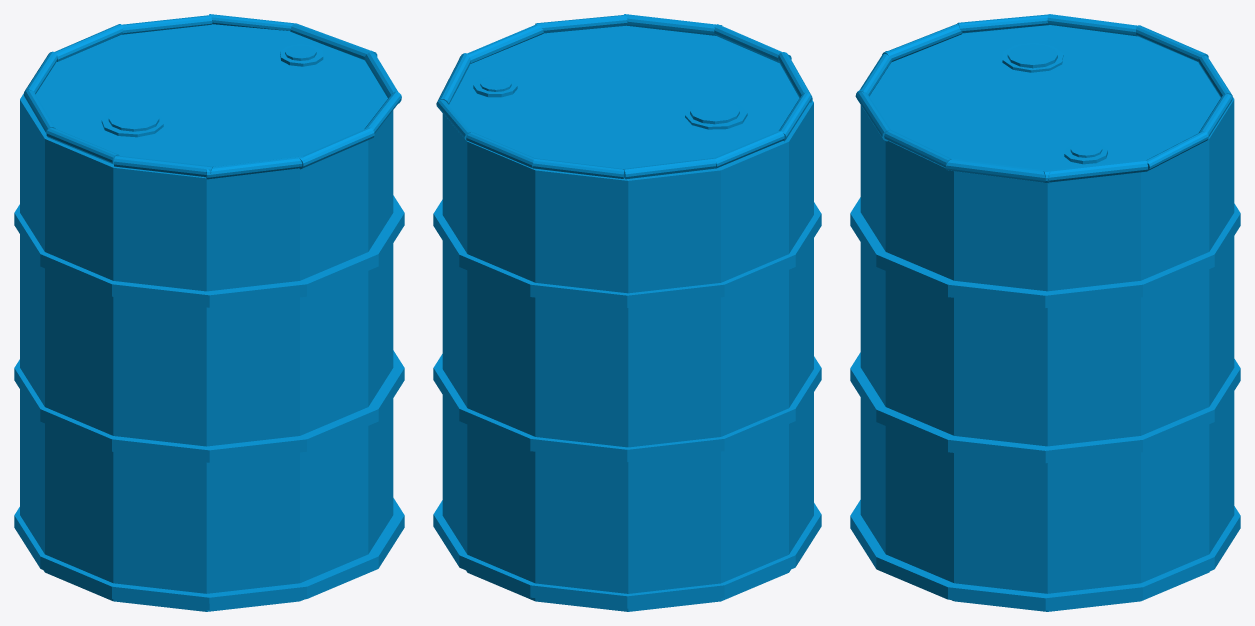
File: barrelJ.fbx
The picture shows the model from 3 angles, left to right: view 1: azimuth 30°, elevation 25°; view 2: azimuth 150°, elevation 25°; view 3: azimuth 270°, elevation 25°; orthographic projection.
Visible parts, largest first — view 1: group2122886649, group2049512744; view 2: group2122886649, group2049512744; view 3: group2122886649, group2049512744.
Part boxes in pixels (bbox=[...]): group2122886649: bbox=[20, 24, 393, 611]; group2049512744: bbox=[14, 14, 404, 609]; group2122886649: bbox=[442, 25, 813, 611]; group2049512744: bbox=[433, 14, 821, 608]; group2122886649: bbox=[860, 25, 1234, 611]; group2049512744: bbox=[850, 14, 1240, 610].
Bounding box in the file's own units: 62 × 77.77 × 62.
